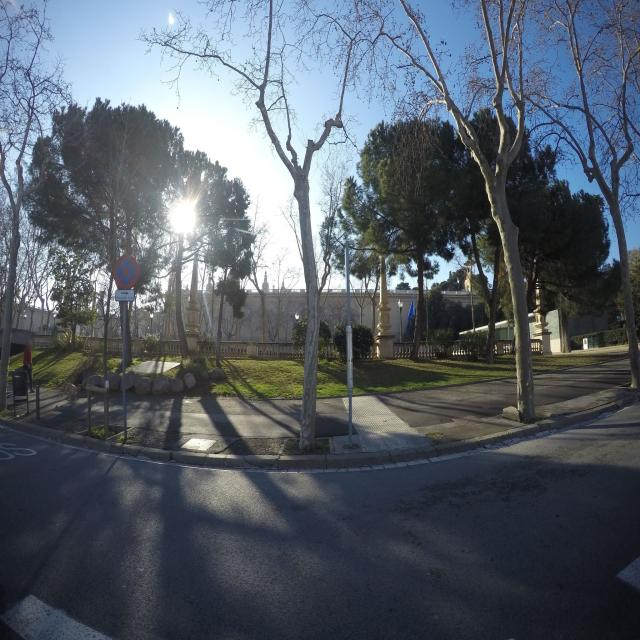forb_stopping: (110, 255, 139, 290)
